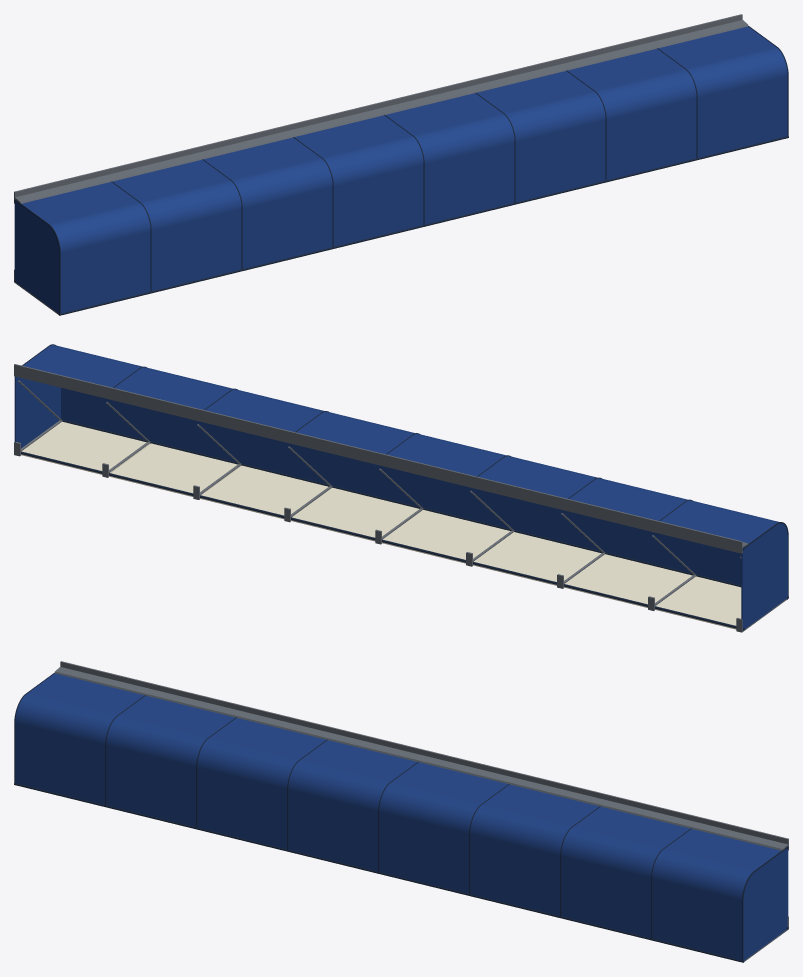
Rendered from storefront-awning.glb.
The picture shows the model from 3 angles, top to bottom: view 1: azimuth 30°, elevation 25°; view 2: azimuth 150°, elevation 25°; view 3: azimuth 330°, elevation 25°; orthographic projection.
Parts seen in each view (by area): view 1: AwningFabric, AwningFrame, AwningBinding; view 2: AwningFabric, AwningSoffit, AwningFrame, AwningBinding; view 3: AwningFabric, AwningFrame, AwningBinding.
Part boxes in pixels (bbox=[...]): AwningFabric: bbox=[14, 26, 787, 313]; AwningFrame: bbox=[14, 14, 748, 314]; AwningBinding: bbox=[14, 26, 788, 315]; AwningFabric: bbox=[14, 345, 787, 630]; AwningSoffit: bbox=[21, 421, 741, 629]; AwningFrame: bbox=[14, 364, 786, 632]; AwningBinding: bbox=[21, 344, 788, 630]; AwningFabric: bbox=[15, 673, 788, 960]; AwningFrame: bbox=[54, 661, 788, 961]; AwningBinding: bbox=[14, 673, 788, 962].
Bounding box in the file's own units: 30.04 × 3.58 × 3.33.
